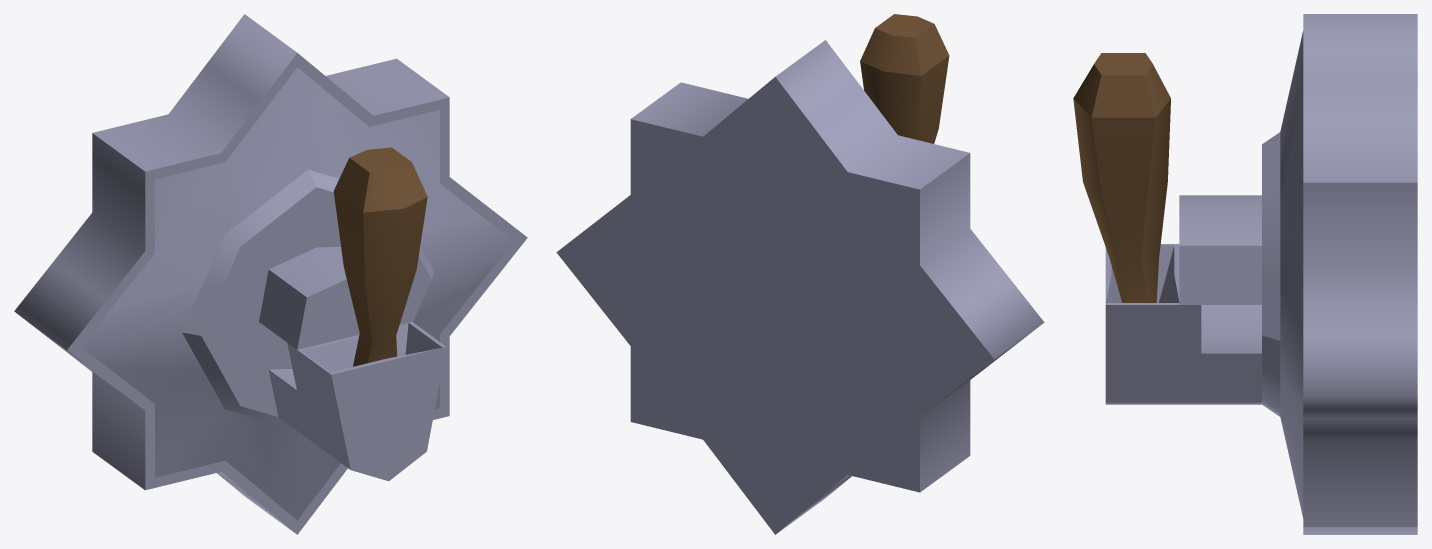
File: Torch.fbx
The picture shows the model from 3 angles, left to right: view 1: azimuth 30°, elevation 25°; view 2: azimuth 150°, elevation 25°; view 3: azimuth 270°, elevation 25°; orthographic projection. The views are drawn at different scales.
Visible parts, largest first — view 1: pCube1; view 2: pCube1; view 3: pCube1.
Boxes of the visible parts, left/top/right/bottom form: pCube1: left=14, top=14, right=527, bottom=534; pCube1: left=556, top=14, right=1044, bottom=534; pCube1: left=1073, top=14, right=1417, bottom=534.
Bounding box in the file's own units: 105 × 105 × 62.6.
